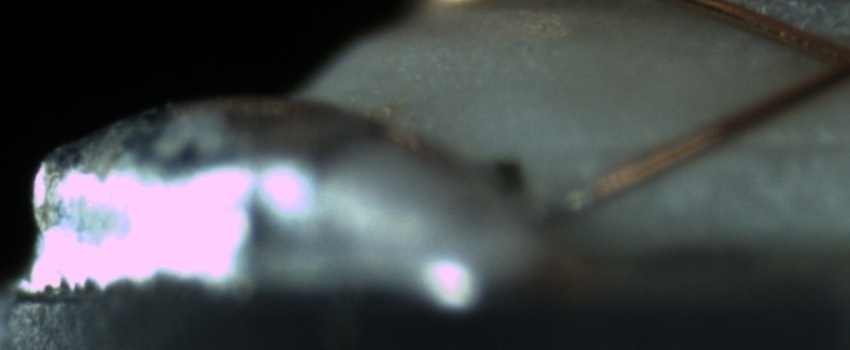CL: (800, 19, 850, 96)
DL: (612, 113, 849, 181)
